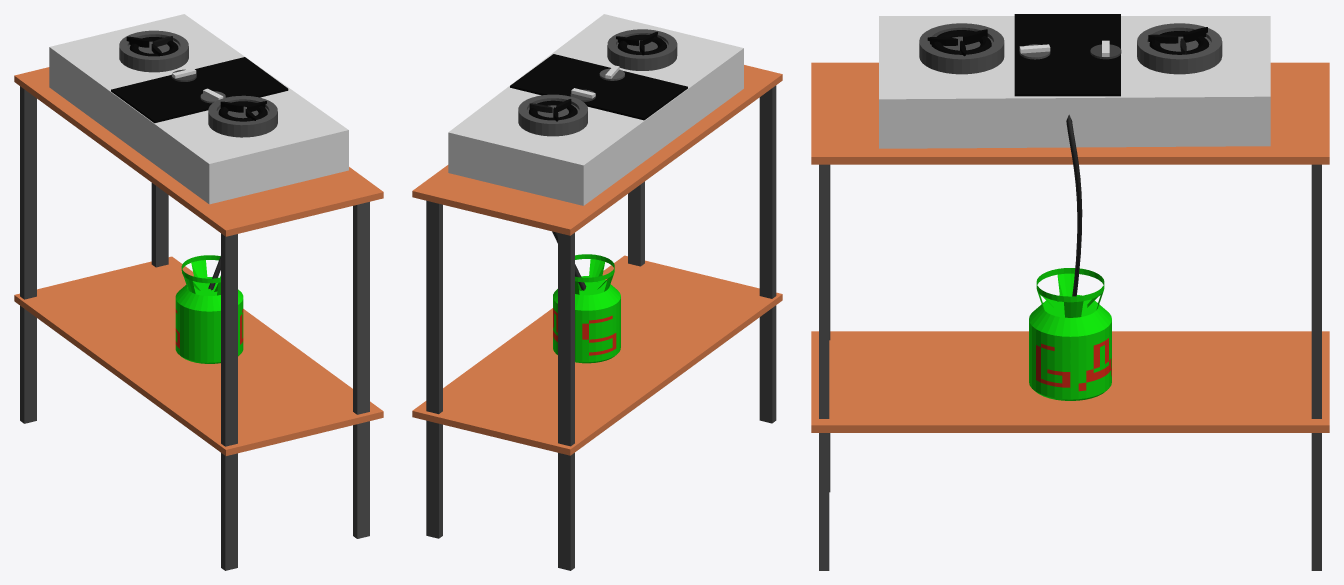
The model's file is Kompor.fbx.
The picture shows the model from 3 angles, left to right: view 1: azimuth 30°, elevation 25°; view 2: azimuth 150°, elevation 25°; view 3: azimuth 270°, elevation 25°; orthographic projection. The views are drawn at different scales.
Parts seen in each view (by area): view 1: Cube.004, Cube, Cube.009, Cube.008, Cube.005, Cube.007, Cube.003, Cylinder.010, Cylinder, Cylinder.001, Cube.006; view 2: Cube.004, Cube, Cube.009, Cube.008, Cube.007, Cube.006, Cube.003, Cylinder.010, Cylinder, Cylinder.001, Cube.005; view 3: Cube.004, Cube, Cube.009, Cylinder.010, Cube.003, Cube.005, Cube.006, Cylinder, Cylinder.001, BézierCurve.
Boxes of the visible parts, x1,y1,x2,y2 form: Cube.004: [14, 256, 383, 455]; Cube: [49, 14, 348, 204]; Cube.009: [14, 67, 383, 236]; Cube.008: [221, 233, 237, 570]; Cube.005: [353, 202, 369, 538]; Cube.007: [20, 86, 36, 423]; Cube.003: [111, 57, 288, 123]; Cylinder.010: [175, 255, 243, 363]; Cylinder: [119, 30, 188, 72]; Cylinder.001: [208, 95, 277, 137]; Cube.006: [151, 183, 168, 267]; Cube.004: [412, 255, 782, 455]; Cube: [448, 14, 743, 205]; Cube.009: [412, 65, 782, 235]; Cube.008: [759, 85, 776, 423]; Cube.007: [558, 233, 574, 570]; Cube.006: [426, 200, 442, 538]; Cube.003: [510, 54, 687, 120]; Cylinder.010: [553, 254, 620, 363]; Cylinder: [518, 94, 587, 136]; Cylinder.001: [607, 29, 677, 70]; Cube.005: [628, 181, 644, 266]; Cube.004: [811, 331, 1329, 432]; Cube: [879, 16, 1270, 148]; Cube.009: [811, 62, 1329, 164]; Cylinder.010: [1029, 268, 1111, 400]; Cube.003: [1014, 14, 1120, 96]; Cube.005: [819, 164, 829, 570]; Cube.006: [1311, 164, 1321, 570]; Cylinder: [1137, 23, 1222, 74]; Cylinder.001: [919, 23, 1004, 74]; BézierCurve: [1066, 114, 1082, 296].
Size of the model in its own units: 553 by 1309 by 1246.
